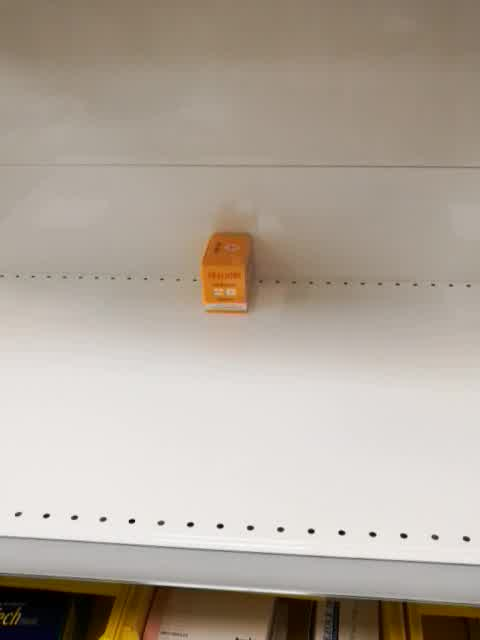jasminetea: (199, 231, 251, 315)
